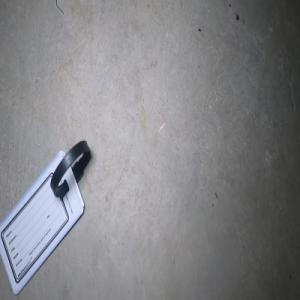LuggageTag: (0, 138, 91, 297)
